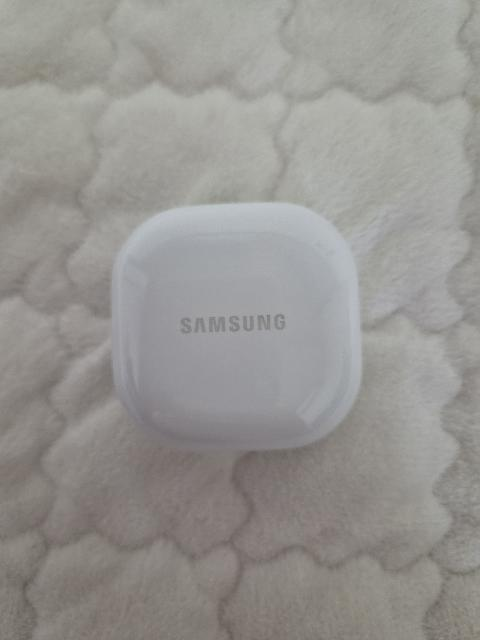earphone_case: (110, 202, 362, 452)
